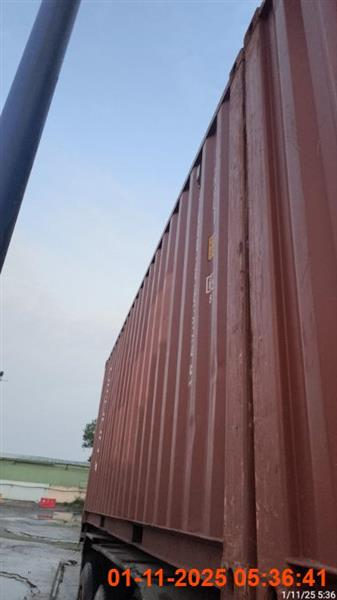dent: (75, 0, 335, 599)
